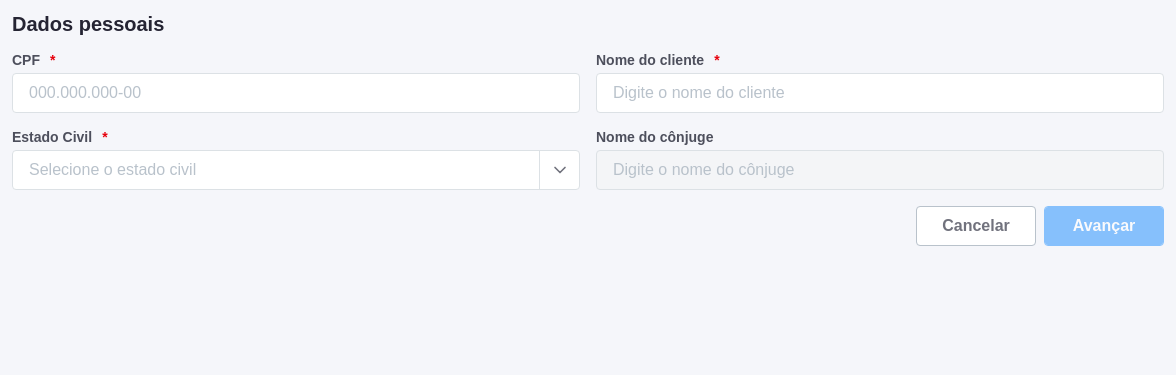
Test: LeadStep1Form › conditional spouse field › disables and clears spouse field when marital status changes
The width and height of the screenshot is (1176, 375).
Click the dropdown at (113, 169), box [12,150,580,190]
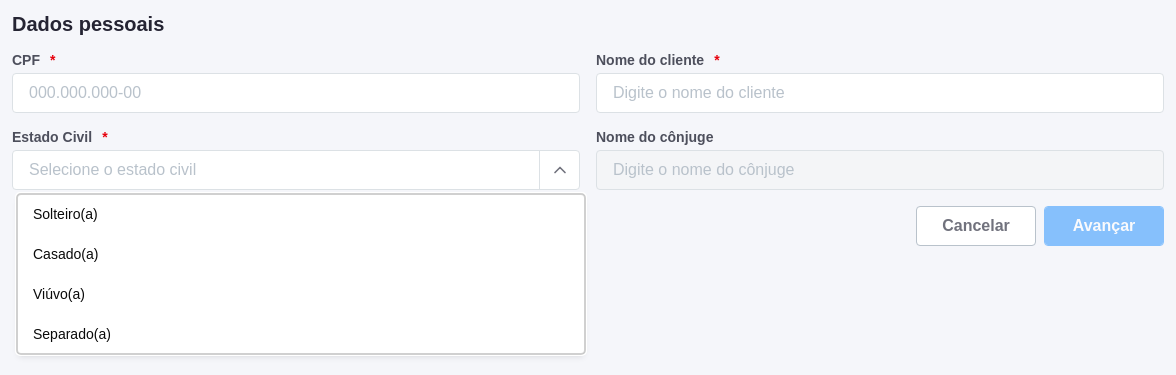
Click the option "Casado(a)" at (66, 254), box [33,246,98,262]
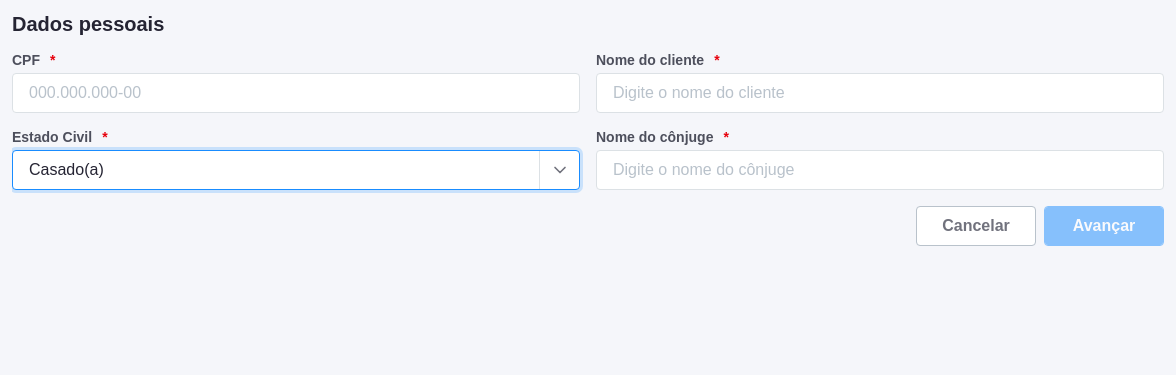
Type "Maria" into the field labelled "Nome do cônjuge *" at (888, 170), box [613,154,1163,186]
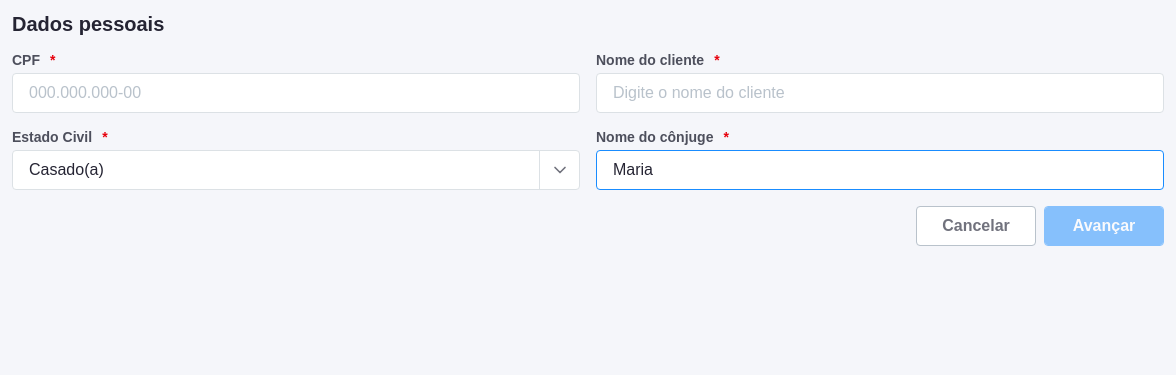
Click the dropdown at (66, 169), box [12,150,580,190]
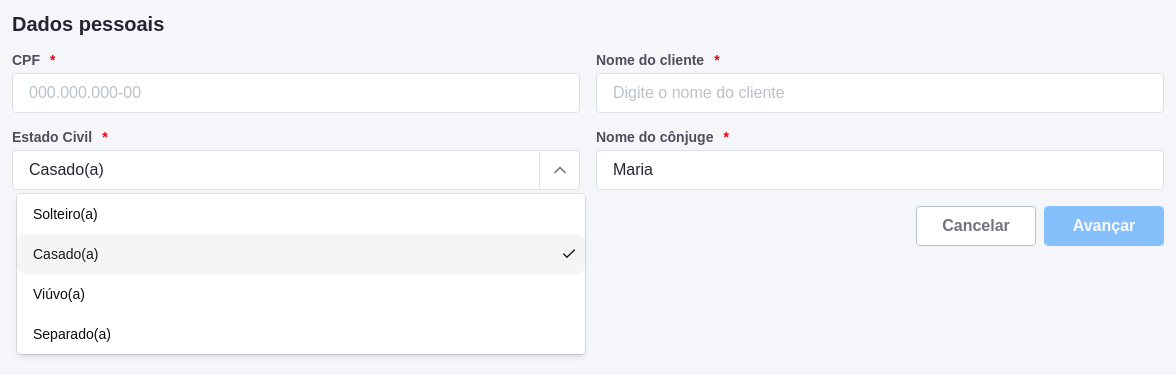
Click the option "Solteiro(a)" at (65, 214), box [33,206,98,222]
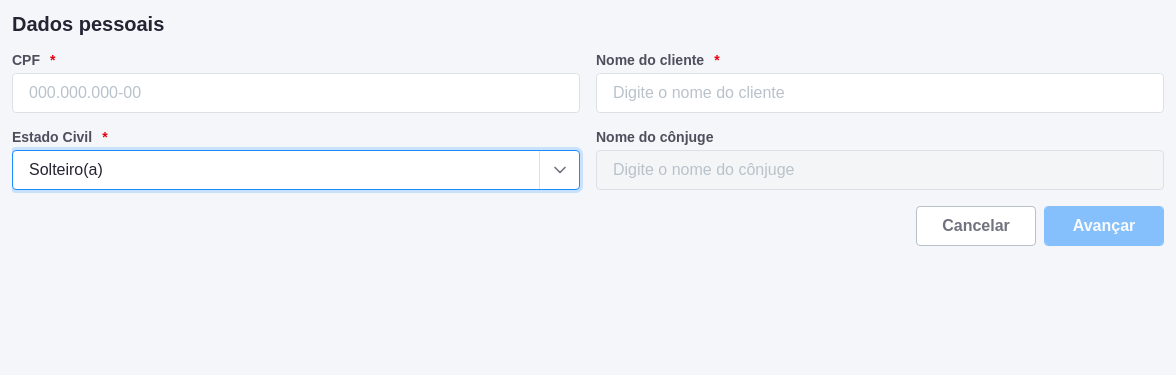
Expected: the field labelled "Nome do cônjuge" is disabled, [613,154,1163,186]
Expected: the field labelled "Nome do cônjuge" is empty, [613,154,1163,186]
